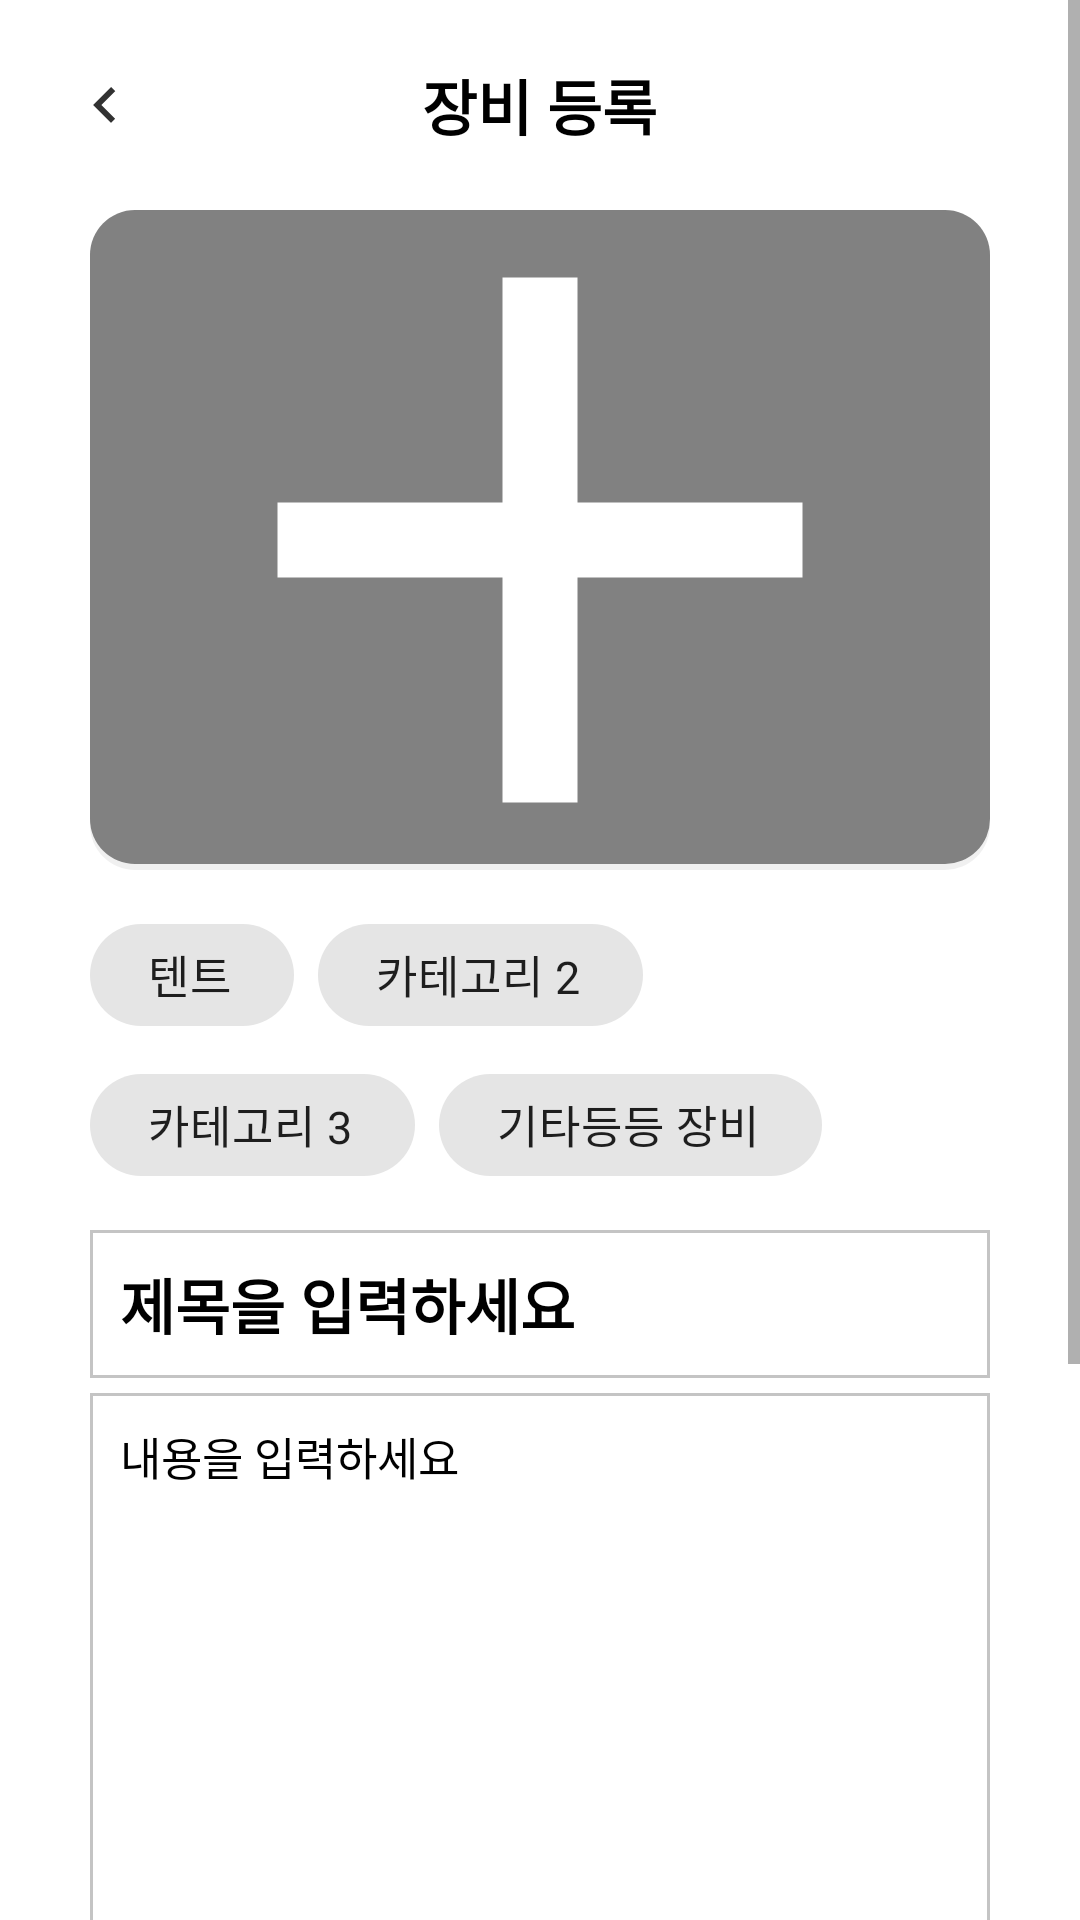

Icon bounding boxes for this 1080 x 1920 phone screenshot, format (x1, y1, x2, y2):
arrow: (93, 87, 115, 123)
